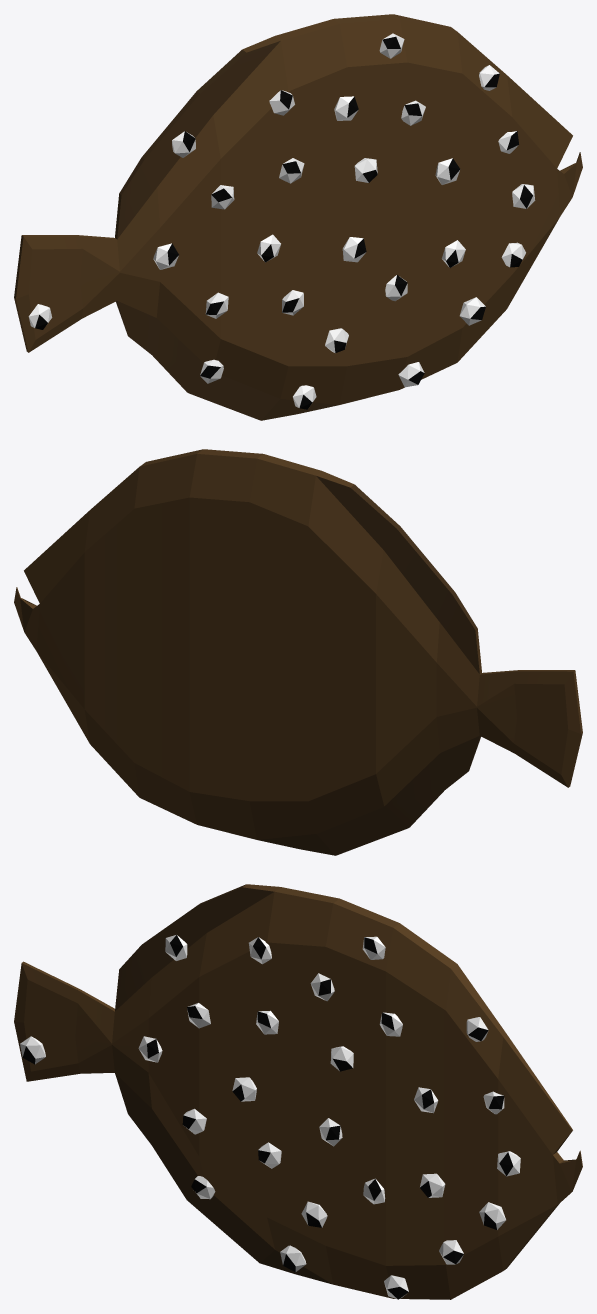
Rendered from HalibutDrip.glb.
The picture shows the model from 3 angles, top to bottom: view 1: azimuth 30°, elevation 25°; view 2: azimuth 150°, elevation 25°; view 3: azimuth 330°, elevation 25°; orthographic projection.
Parts seen in each view (by area): view 1: HalibutDrip; view 2: HalibutDrip; view 3: HalibutDrip.
Part boxes in pixels (bbox=[...]): HalibutDrip: bbox=[14, 14, 582, 420]; HalibutDrip: bbox=[14, 449, 582, 855]; HalibutDrip: bbox=[14, 884, 582, 1299].
Size of the model in its own units: 1.43 by 0.9227 by 0.1128.
1 material, 1 textured.
